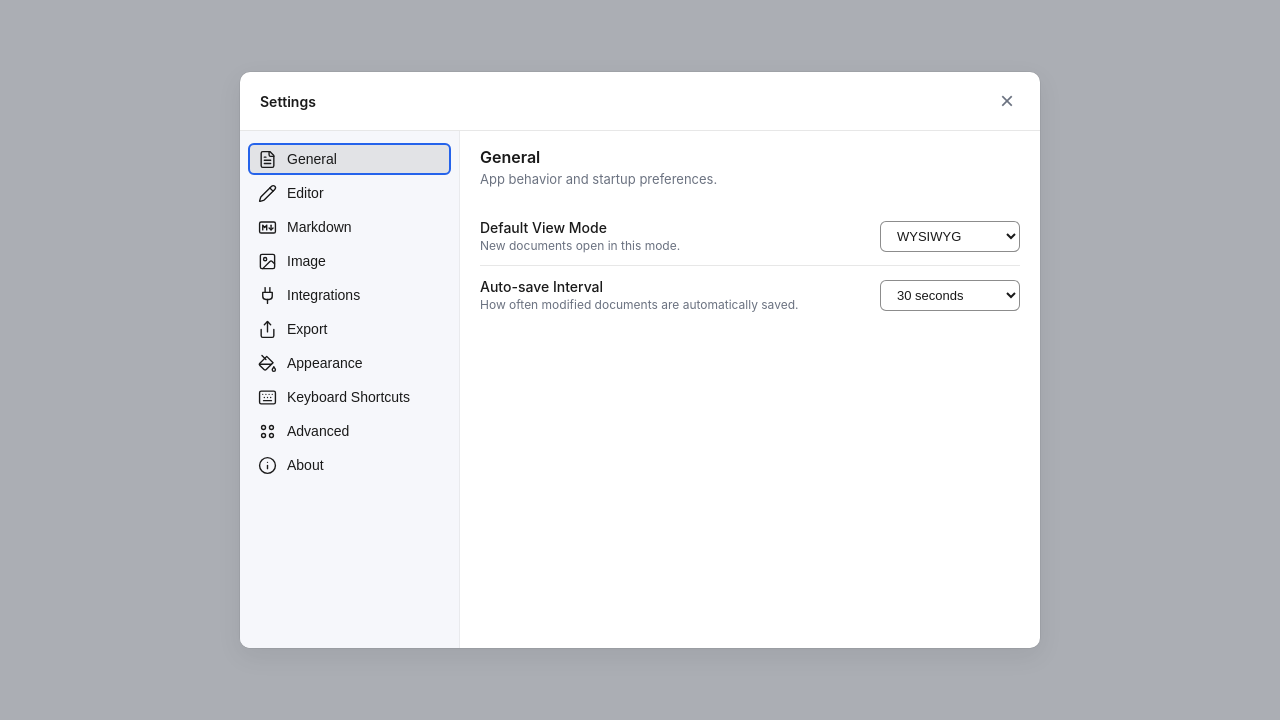
Test: MCP-FIX-C2 server info renders only with a bound port › C2-01 launch disabled with no port shows no Listening-on row and no port hint
Click the button "Integrations" at (350, 295), box [248,279,451,311]
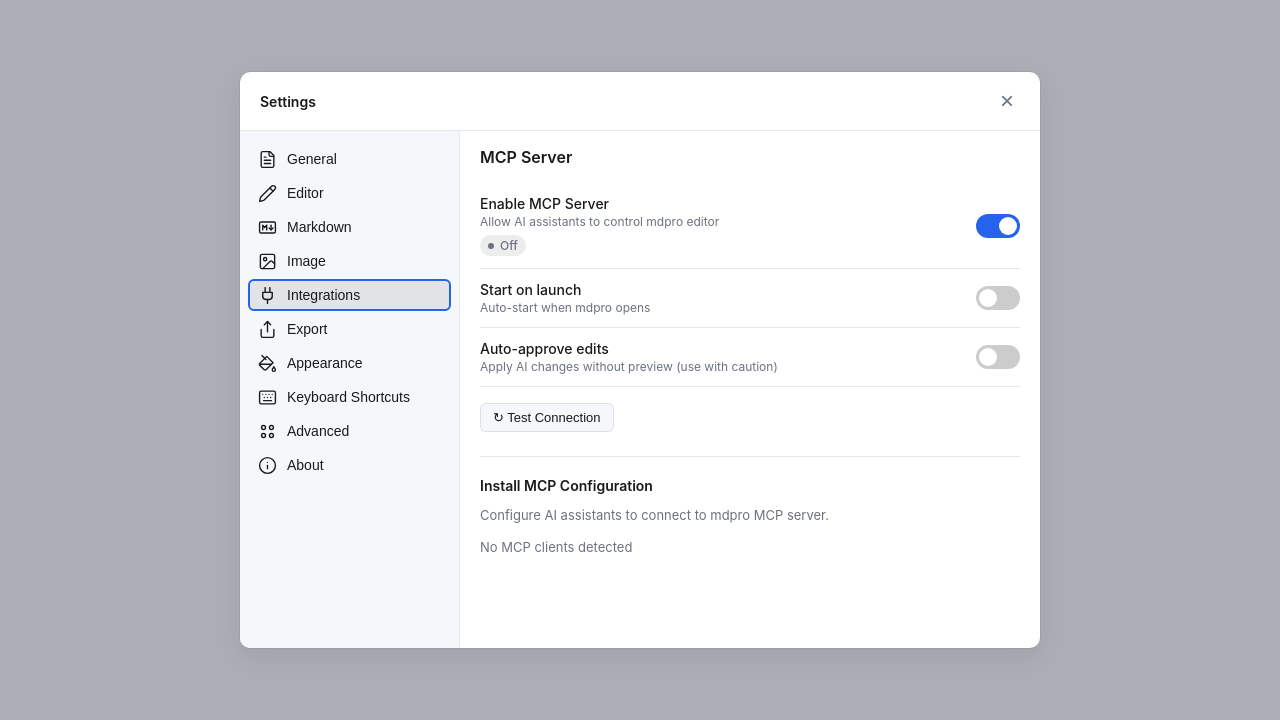
Result: the switch labelled "Enable MCP Server" is shown at [976,214,1020,238]
Result: the message "Off" is shown at [480,235,526,256]
